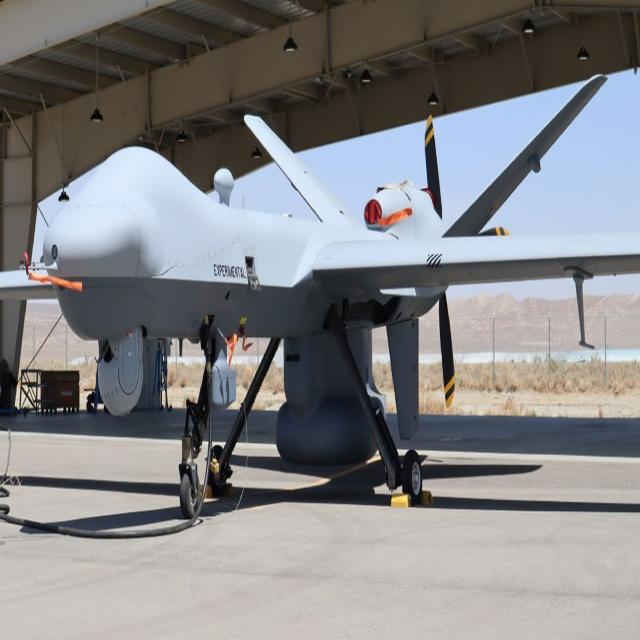MQ9: (2, 38, 633, 541)
